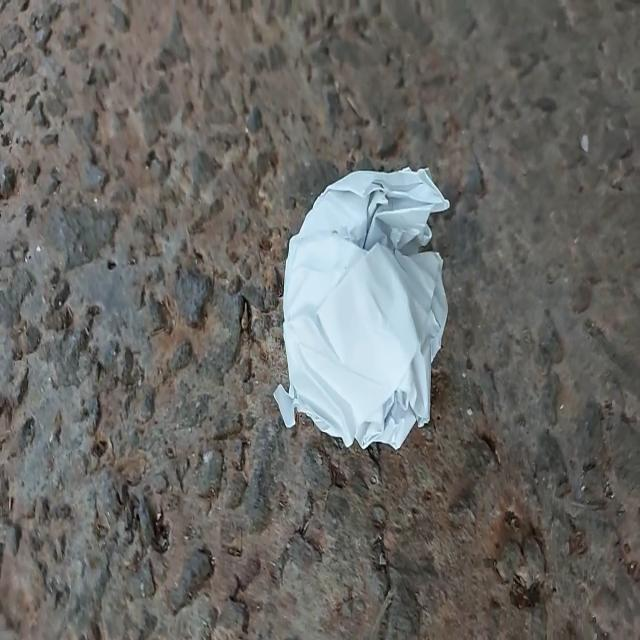Paper: (251, 133, 466, 463)
